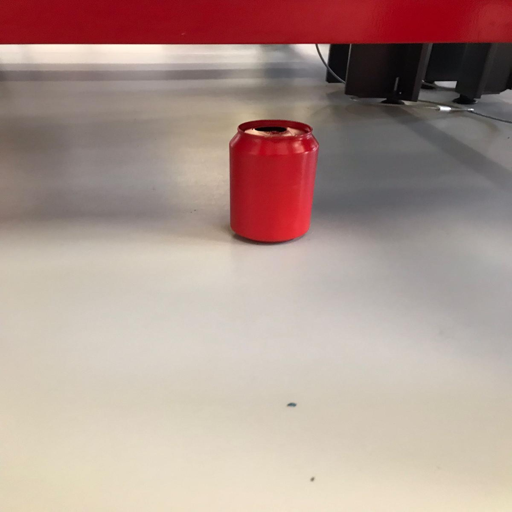Red_Can: (224, 117, 320, 245)
